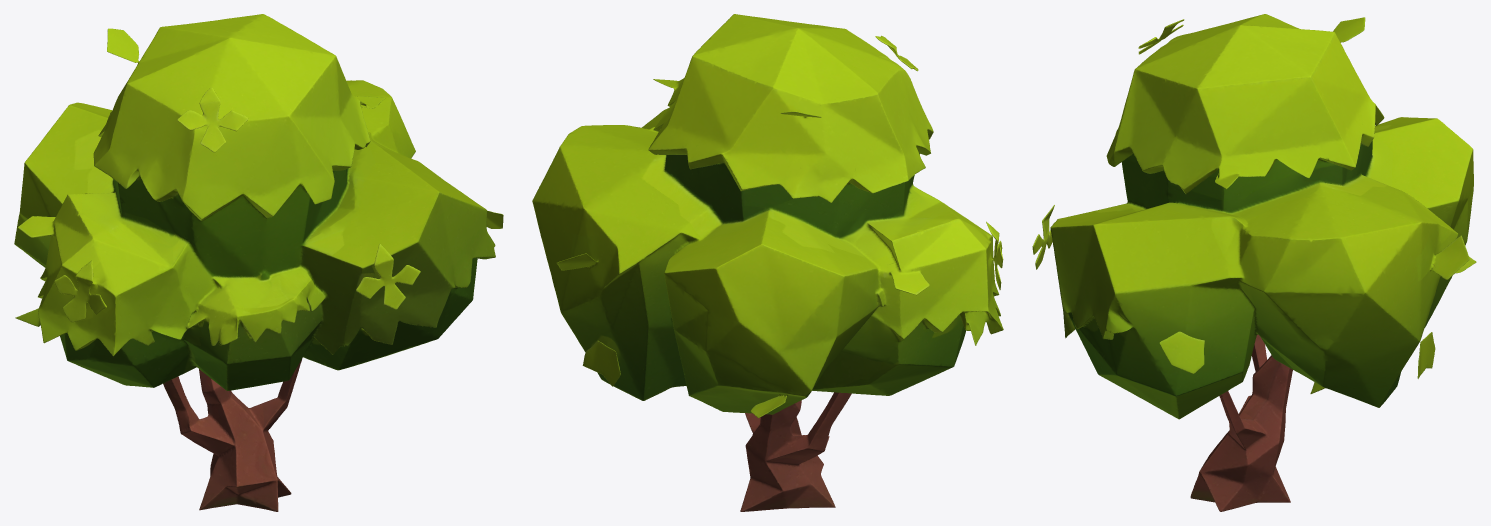
File: Tree 2.glb
The picture shows the model from 3 angles, left to right: view 1: azimuth 30°, elevation 25°; view 2: azimuth 150°, elevation 25°; view 3: azimuth 270°, elevation 25°; orthographic projection. The views are drawn at different scales.
Size of the model in its own units: 1.84 by 1.87 by 1.63.
Materials: 1 (1 with a texture image).
